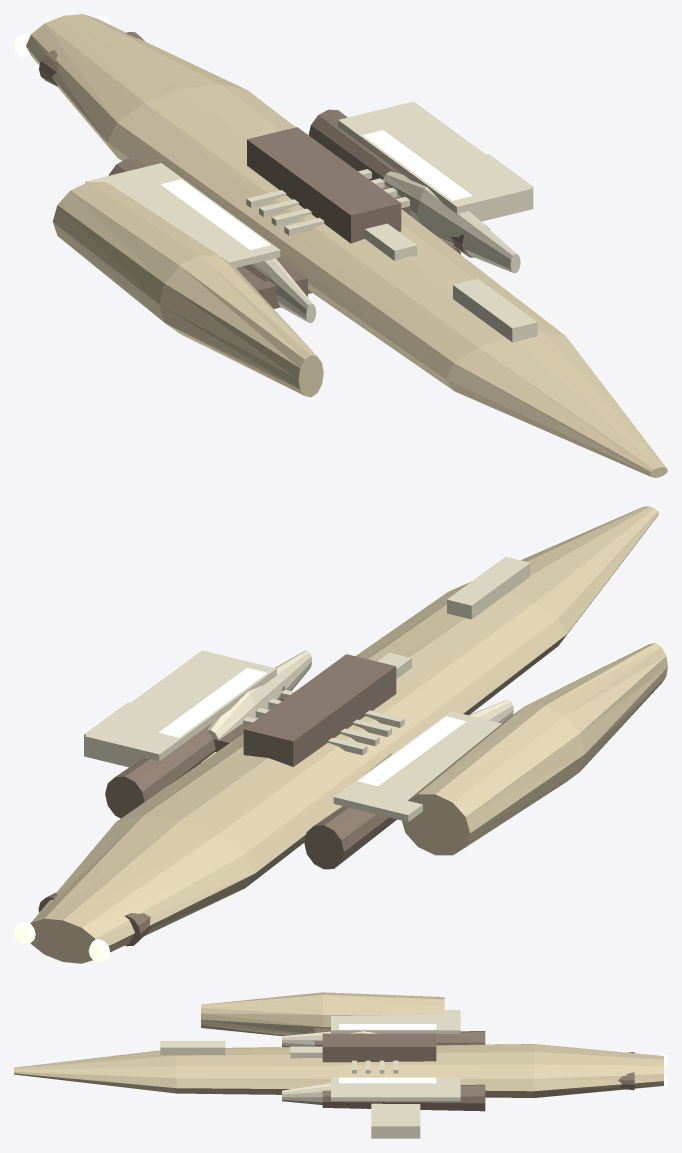
3 views of the same model, one above another, from view 1: azimuth 30°, elevation 25°; view 2: azimuth 150°, elevation 25°; view 3: azimuth 270°, elevation 25° (orthographic). The views are drawn at different scales.
Size of the model in its own units: 6.18 by 1.29 by 15.3.
